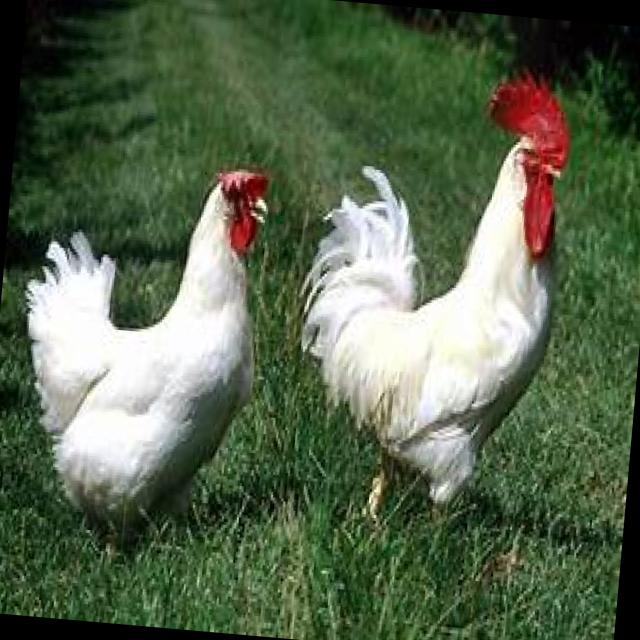animal: (288, 50, 602, 596), (0, 133, 294, 533)
